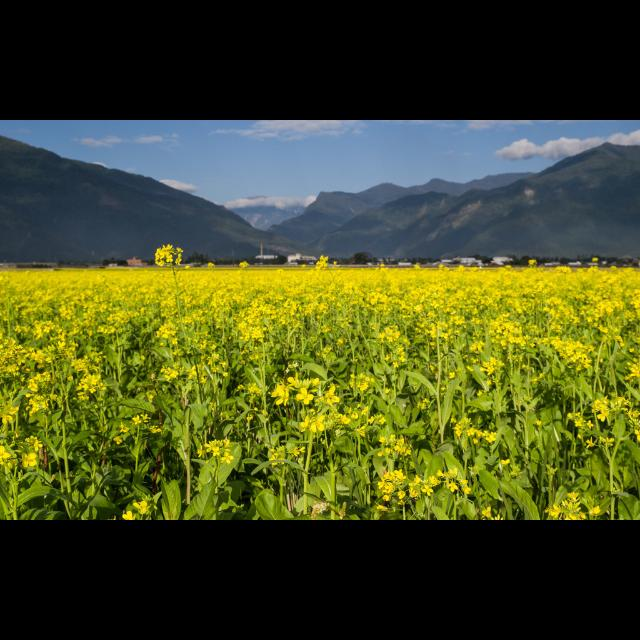Flower: (1, 241, 640, 519), (197, 443, 235, 487)
